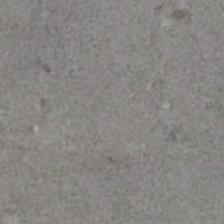Non_Crack: (28, 7, 208, 216)
